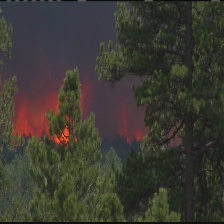fire: (17, 99, 73, 141)
smoke: (14, 5, 106, 88)
